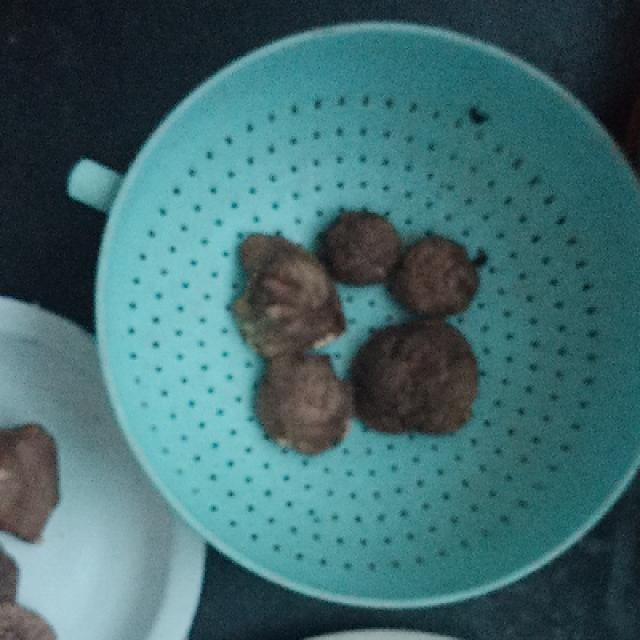Lentinus edodes: (348, 315, 480, 432), (240, 230, 344, 357), (256, 345, 349, 454), (394, 233, 478, 320), (323, 213, 399, 284)
